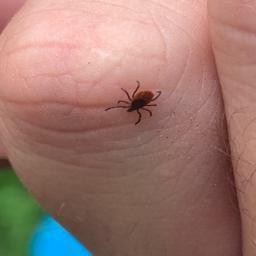Ixodes scapularis: (104, 81, 162, 124)
